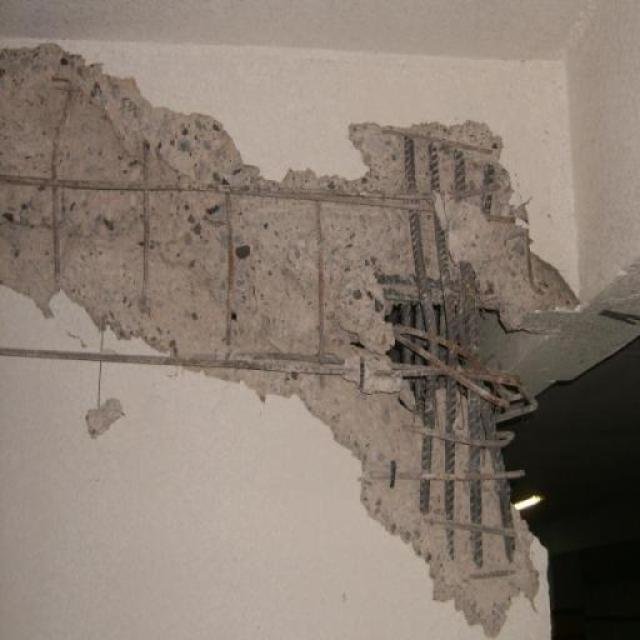D0w0: (0, 42, 580, 639)
